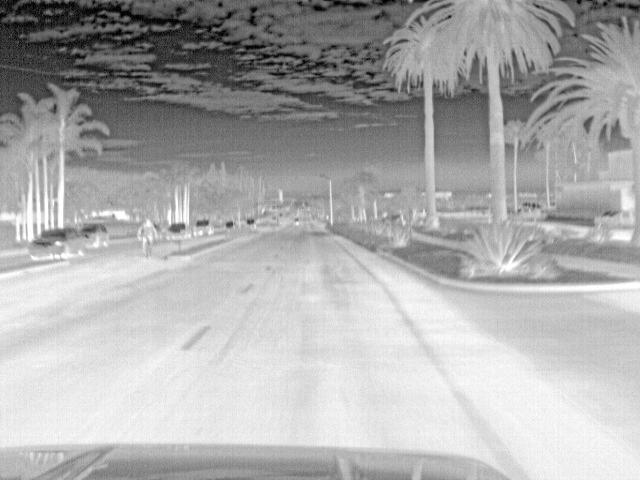car: (27, 227, 85, 259), (76, 223, 109, 249), (163, 221, 189, 240), (190, 218, 214, 236), (224, 220, 239, 232), (243, 218, 256, 230)
person: (134, 220, 162, 250)
